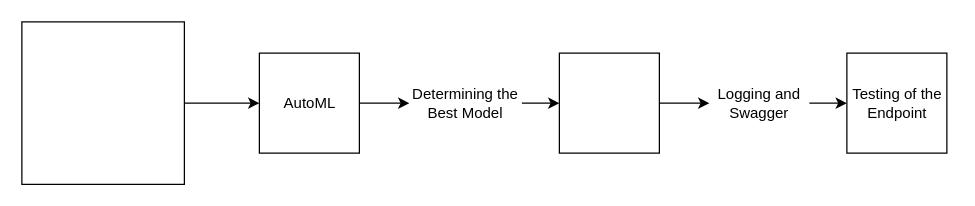
Some shapes in this 975 by 206 pixel diagram are drawn without their labels. Each missing label, with the box of its shape:
Dataset upload: (21, 21, 184, 184)
Deployment of the Model: (558, 52, 659, 153)
